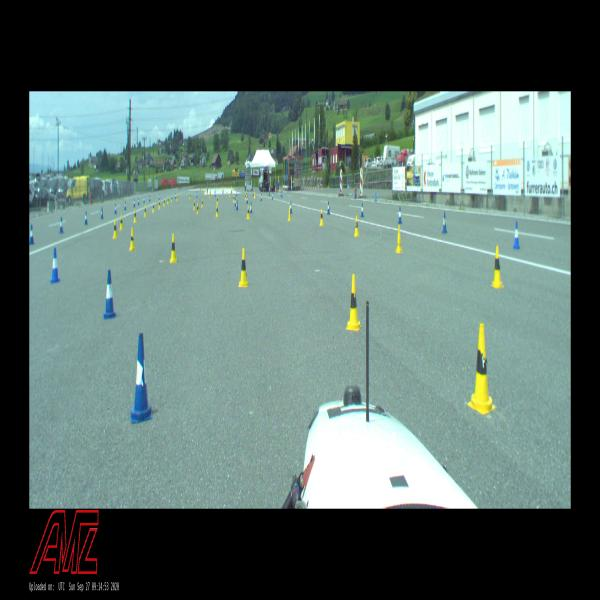blue_cone: (131, 333, 153, 423), (103, 270, 116, 320), (50, 248, 60, 283), (513, 220, 520, 250), (442, 212, 447, 234), (30, 224, 34, 245), (398, 206, 402, 224), (360, 202, 364, 218), (100, 207, 104, 220), (60, 217, 63, 234), (289, 200, 292, 216), (327, 202, 330, 215), (85, 212, 88, 224), (114, 204, 117, 214), (250, 202, 253, 212), (236, 200, 238, 210), (124, 201, 126, 210), (143, 196, 145, 204), (280, 190, 282, 197), (196, 192, 198, 198), (252, 190, 254, 196), (134, 198, 135, 207), (261, 194, 262, 202), (272, 192, 273, 200), (159, 194, 160, 202), (235, 198, 236, 206), (247, 196, 248, 204), (138, 198, 139, 205), (149, 195, 150, 202), (175, 192, 176, 198), (269, 190, 270, 196)
yellow_cone: (468, 321, 496, 415), (346, 274, 361, 331), (490, 245, 505, 290), (239, 248, 248, 288), (170, 233, 177, 263), (396, 225, 402, 254), (129, 227, 136, 251), (354, 215, 359, 237), (113, 219, 118, 239), (246, 205, 251, 220), (320, 208, 324, 226), (120, 214, 124, 231), (133, 209, 137, 223), (288, 206, 291, 222), (152, 202, 155, 213), (216, 203, 218, 218), (193, 200, 196, 210), (144, 205, 146, 217), (197, 203, 199, 214), (202, 198, 204, 208), (167, 195, 169, 204), (217, 196, 219, 205), (254, 190, 256, 199), (209, 190, 211, 198), (245, 193, 247, 201), (164, 198, 166, 206), (189, 192, 191, 200), (171, 195, 173, 202), (231, 186, 232, 196), (159, 199, 160, 208), (233, 194, 234, 203), (177, 194, 178, 201), (230, 191, 231, 198)
